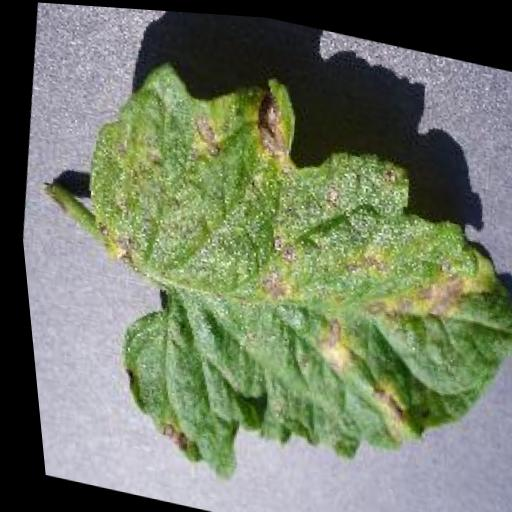Septoria: (33, 38, 512, 512)
